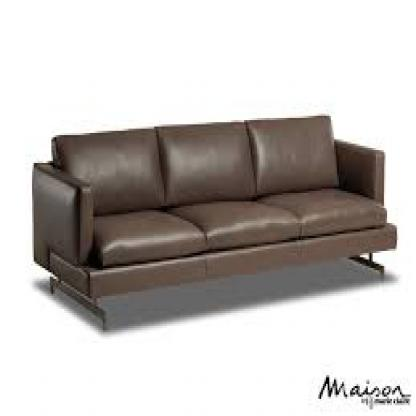sofa: (31, 116, 398, 332)
